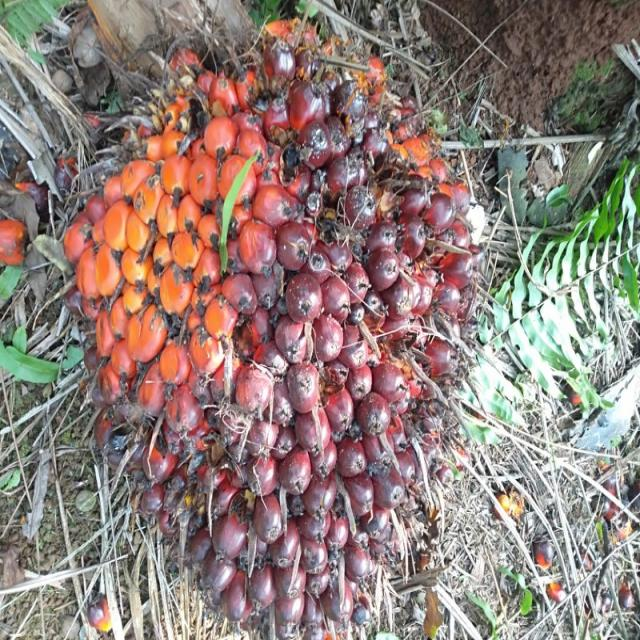fraksi 3: (57, 16, 506, 624)
